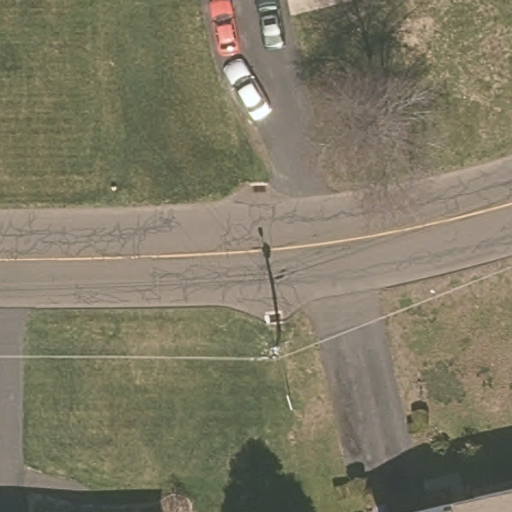DT: (258, 340, 288, 362)
